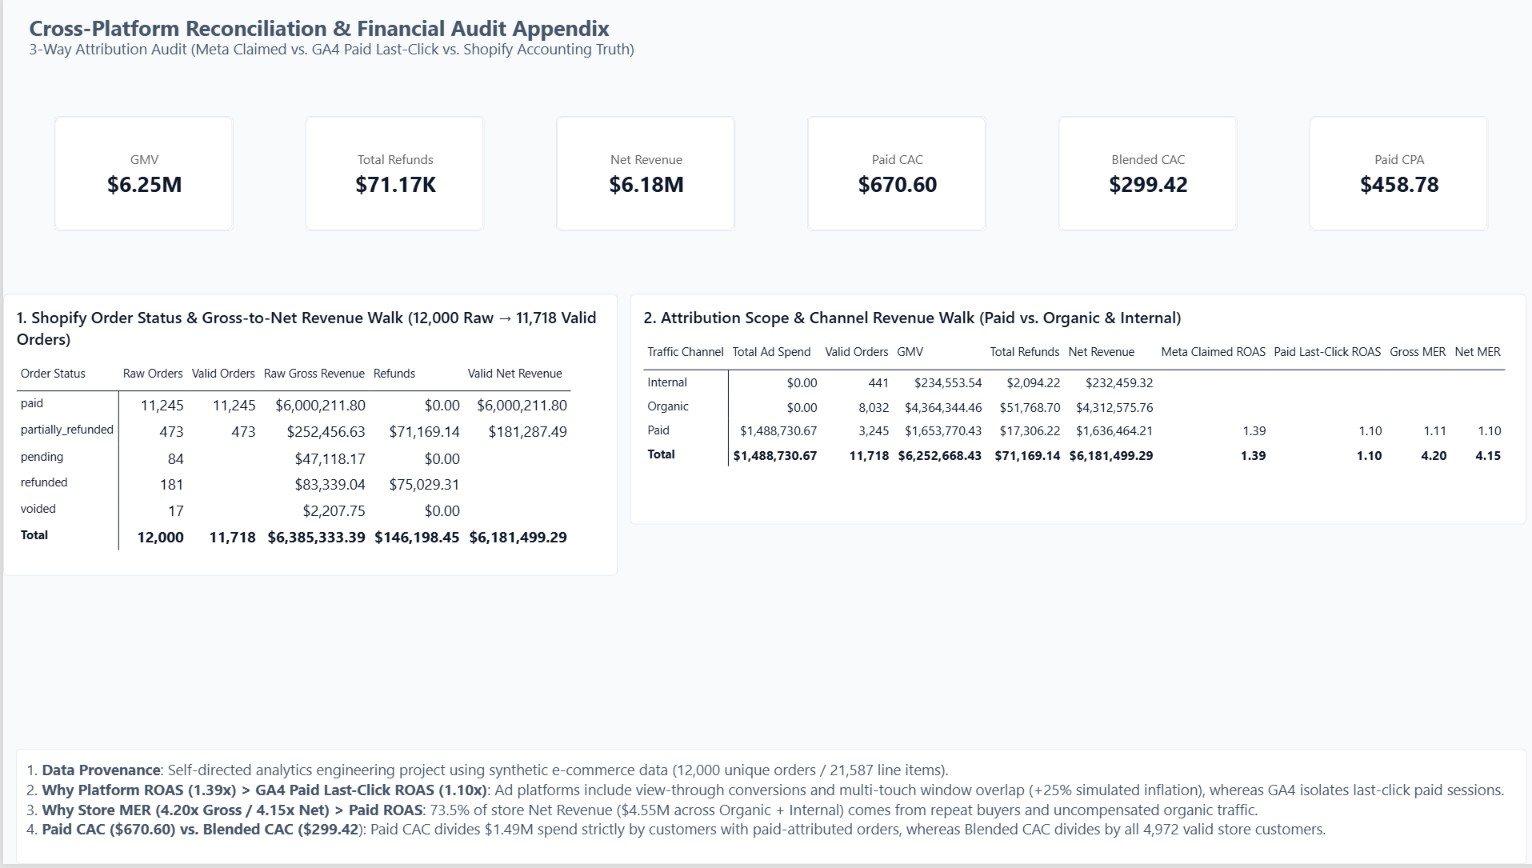

The dashboard page shown, as its layout file describes it:
{"tool":"powerbi","page":{"name":"Reconciliation Appendix","canvas":[1920,1080],"ordinal":2},"visuals":[{"type":"cardVisual","fields":{"Data":["Economics Measures.Net Revenue"]},"box":[691.2,144.9,224,144],"z":3000},{"type":"cardVisual","fields":{"Data":["Economics Measures.Blended CAC"]},"box":[1318.4,144.9,224,144],"z":4000},{"type":"cardVisual","fields":{"Data":["Economics Measures.GMV"]},"box":[64,144.9,224,144],"z":5000},{"type":"cardVisual","fields":{"Data":["Economics Measures.Total Refunds"]},"box":[377.6,144.9,224,144],"z":6000},{"type":"cardVisual","fields":{"Data":["Economics Measures.Paid CAC"]},"box":[1004.8,144.9,224,144],"z":7000},{"type":"cardVisual","fields":{"Data":["Economics Measures.Paid CPA"]},"box":[1632,144.9,224,144],"z":8000},{"type":"textbox","box":[32,16,784,64],"z":13000},{"type":"textbox","box":[32,48,784,80],"z":14000},{"type":"pivotTable","title":"1. Shopify Order Status & Gross-to-Net Revenue Walk (12,000 Raw → 11,718 Valid Orders)","fields":{"Rows":["vw_orders_enriched.financial_status"],"Values":["Funnel & Ad Delivery Measures.Raw Orders","Economics Measures.Valid Orders","Sum(vw_orders_enriched.gross_revenue)","Sum(vw_orders_enriched.refunded_amount)","Economics Measures.Net Revenue"]},"box":[0,368,768,352],"z":14001},{"type":"pivotTable","title":"2. Attribution Scope & Channel Revenue Walk (Paid vs. Organic & Internal)","fields":{"Rows":["dim_campaign.traffic_type"],"Values":["Economics Measures.Total Ad Spend","Economics Measures.Valid Orders","Economics Measures.GMV","Economics Measures.Total Refunds","Economics Measures.Net Revenue","Economics Measures.Meta Claimed ROAS","Economics Measures.Paid Last-Click ROAS","Economics Measures.Gross MER","Economics Measures.Net MER"]},"box":[784,368,1120,288],"z":14002},{"type":"textbox","box":[16,936,1888,144],"z":14003}]}

Visuals, with their boxes in screenshot pixels (x1, y1, x2, y2), scaled from the page's 1920x1080 canvas onto the 1532x868 screenshot:
cardVisual - Economics Measures.Net Revenue: locate(552, 116, 730, 232)
cardVisual - Economics Measures.Blended CAC: locate(1052, 116, 1231, 232)
cardVisual - Economics Measures.GMV: locate(51, 116, 230, 232)
cardVisual - Economics Measures.Total Refunds: locate(301, 116, 480, 232)
cardVisual - Economics Measures.Paid CAC: locate(802, 116, 980, 232)
cardVisual - Economics Measures.Paid CPA: locate(1302, 116, 1481, 232)
textbox: locate(26, 13, 651, 64)
textbox: locate(26, 39, 651, 103)
"1. Shopify Order Status & Gross-to-Net Revenue Walk (12,000 Raw → 11,718 Valid Orders)" pivotTable: locate(0, 296, 613, 579)
"2. Attribution Scope & Channel Revenue Walk (Paid vs. Organic & Internal)" pivotTable: locate(626, 296, 1519, 527)
textbox: locate(13, 752, 1519, 867)
